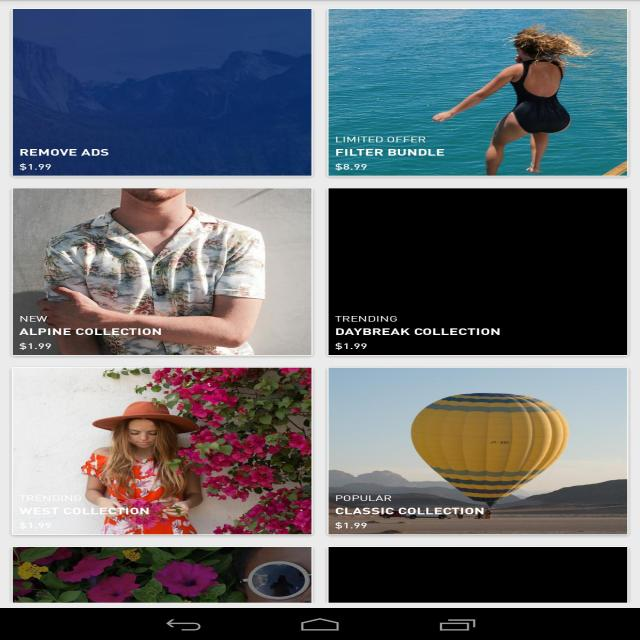image: (13, 367, 313, 536), (15, 9, 313, 178), (14, 188, 313, 356), (330, 187, 626, 356), (329, 368, 626, 535), (330, 10, 628, 176), (13, 547, 310, 602), (330, 547, 627, 602)
